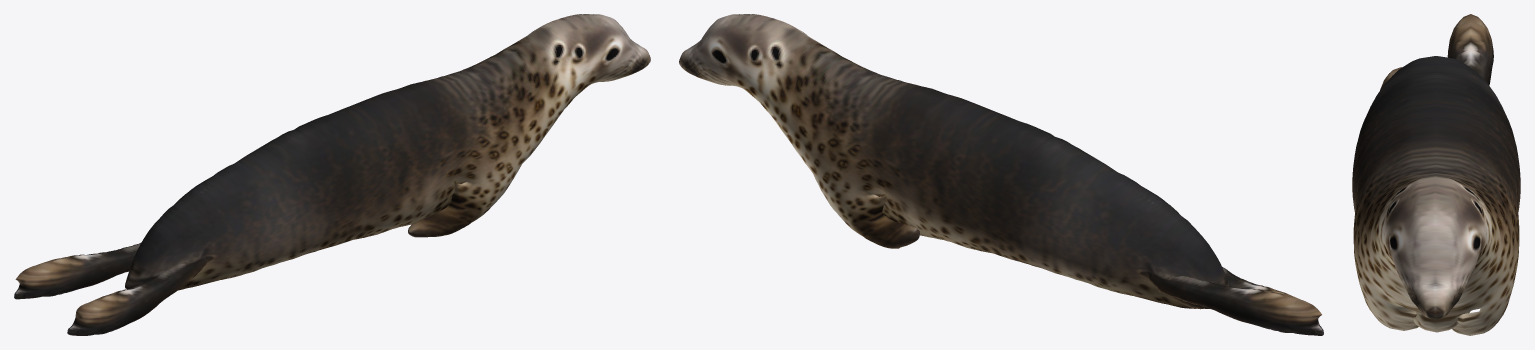
The picture shows the model from 3 angles, left to right: view 1: azimuth 30°, elevation 25°; view 2: azimuth 150°, elevation 25°; view 3: azimuth 270°, elevation 25°; orthographic projection. The views are drawn at different scales.
Visible parts, largest first — view 1: mesh_0; view 2: mesh_0; view 3: mesh_0.
Part boxes in pixels (box(x1,y1,x2,y2)): mesh_0: box(14, 14, 650, 335); mesh_0: box(679, 14, 1323, 335); mesh_0: box(1352, 14, 1520, 335).
Bounding box in the file's own units: 8.44 × 2.41 × 1.47.
Materials: 1 (1 with a texture image).
